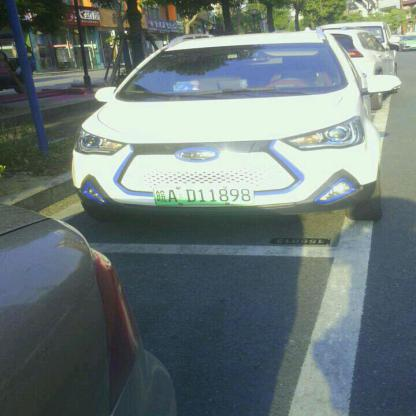lp: (153, 182, 254, 206)
